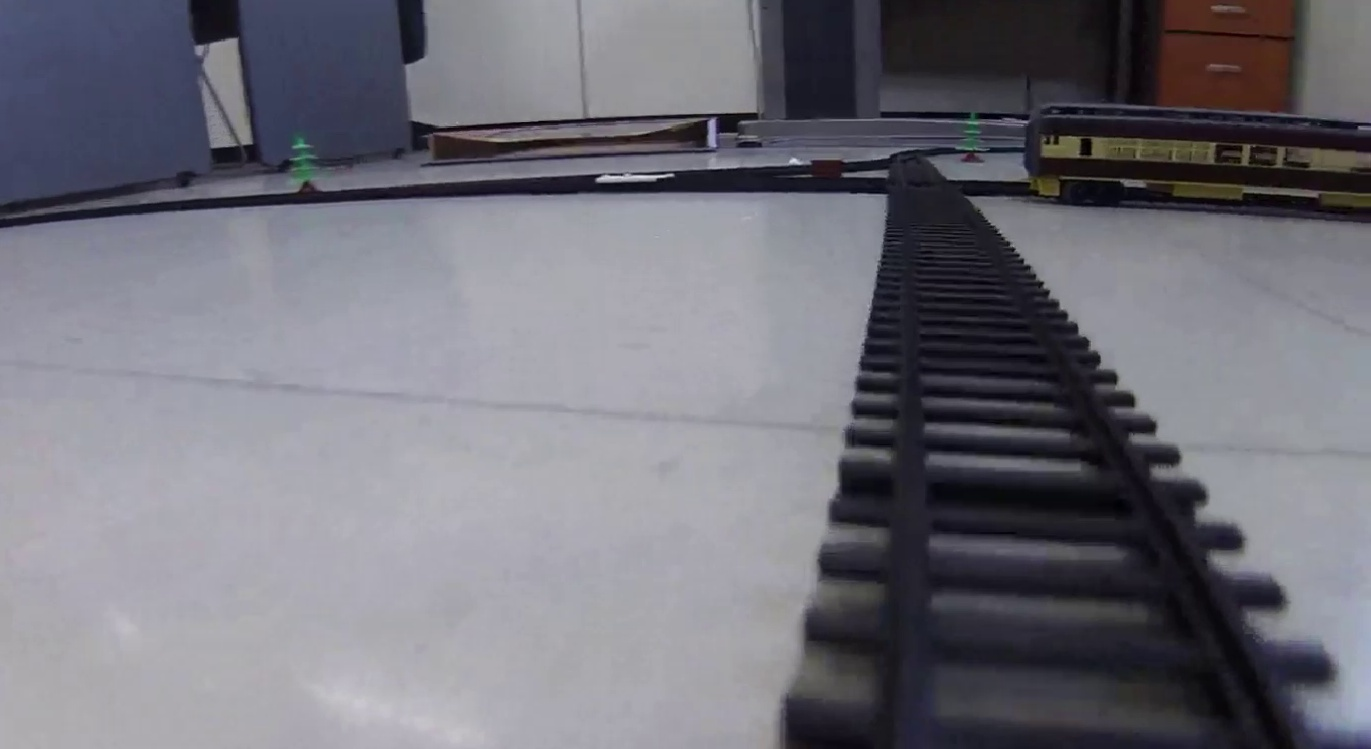tree: (283, 134, 331, 191)
